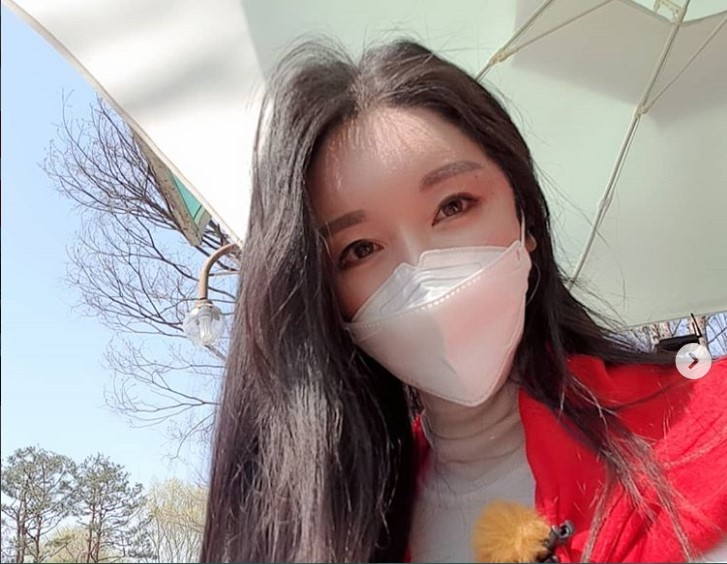face_with_mask: (287, 56, 534, 410)
